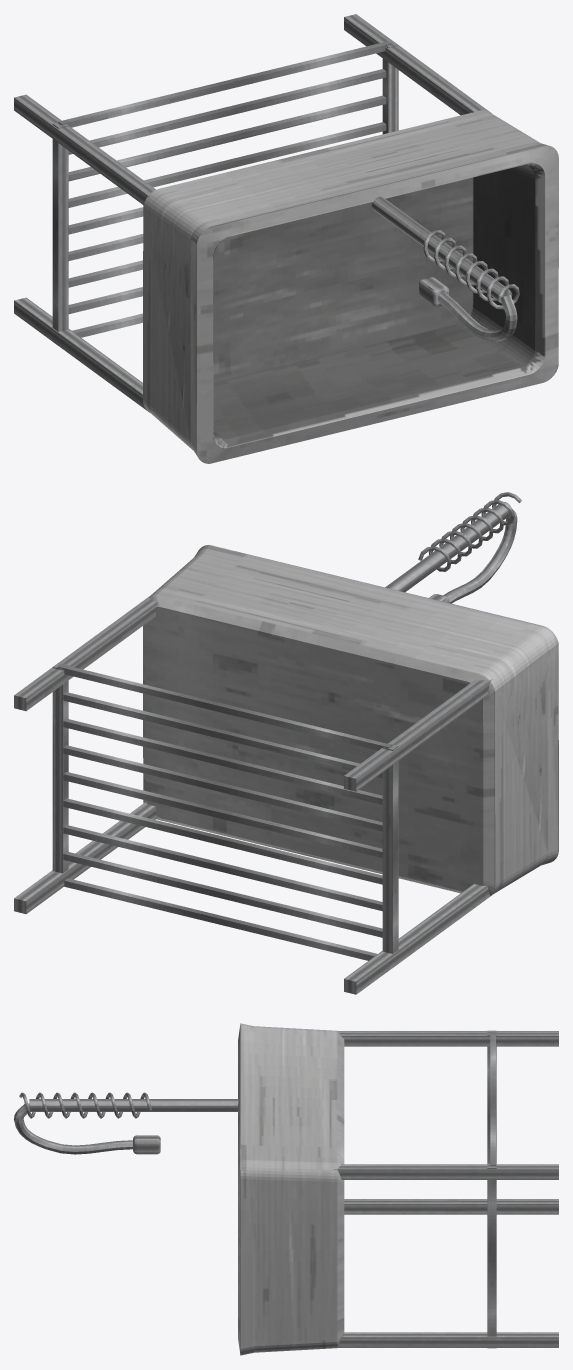
Rendered from pz_sink_large_industrial.obj.
3 renders of one model, top to bottom at view 1: azimuth 30°, elevation 25°; view 2: azimuth 150°, elevation 25°; view 3: azimuth 270°, elevation 25°, orthographic. The views are drawn at different scales.
Parts seen in each view (by area): view 1: pz_sink_large_industrial_|_deep_open_utility_basin_|_FULL_COUNTE, pz_sink_large_industrial_|_steel_leg.001, pz_sink_large_industrial_|_lower_rack_slat.008, pz_sink_large_industrial_|_lower_rack_side, pz_sink_large_industrial_|_steel_leg, pz_sink_large_industrial_|_steel_leg.003, pz_sink_large_industrial_|_lower_rack_slat.007, pz_sink_large_industrial_|_lower_rack_slat.006, pz_sink_large_industrial_|_lower_rack_slat.005, pz_sink_large_industrial_|_sprayer_post, pz_sink_large_industrial_|_EDITABLE_coiled_sprayer_hose, pz_sink_large_industrial_|_EDITABLE_bent_spray_neck (+7 smaller); view 2: pz_sink_large_industrial_|_deep_open_utility_basin_|_FULL_COUNTE, pz_sink_large_industrial_|_steel_leg.001, pz_sink_large_industrial_|_steel_leg, pz_sink_large_industrial_|_steel_leg.003, pz_sink_large_industrial_|_lower_rack_slat.008, pz_sink_large_industrial_|_lower_rack_side, pz_sink_large_industrial_|_lower_rack_slat.001, pz_sink_large_industrial_|_lower_rack_slat.002, pz_sink_large_industrial_|_lower_rack_slat.005, pz_sink_large_industrial_|_lower_rack_slat.003, pz_sink_large_industrial_|_lower_rack_slat.004, pz_sink_large_industrial_|_lower_rack_slat.006 (+7 smaller); view 3: pz_sink_large_industrial_|_deep_open_utility_basin_|_FULL_COUNTE, pz_sink_large_industrial_|_steel_leg.003, pz_sink_large_industrial_|_steel_leg.002, pz_sink_large_industrial_|_steel_leg.001, pz_sink_large_industrial_|_steel_leg, pz_sink_large_industrial_|_sprayer_post, pz_sink_large_industrial_|_lower_rack_side.001, pz_sink_large_industrial_|_EDITABLE_bent_spray_neck, pz_sink_large_industrial_|_EDITABLE_coiled_sprayer_hose, pz_sink_large_industrial_|_lower_rack_slat.008, pz_sink_large_industrial_|_lower_rack_side, pz_sink_large_industrial_|_spray_nozzle.
Part boxes in pixels (x1=…): pz_sink_large_industrial_|_deep_open_utility_basin_|_FULL_COUNTE: x1=143, y1=110, x2=558, y2=463; pz_sink_large_industrial_|_steel_leg.001: x1=14, y1=94, x2=155, y2=204; pz_sink_large_industrial_|_lower_rack_slat.008: x1=58, y1=41, x2=391, y2=127; pz_sink_large_industrial_|_lower_rack_side: x1=52, y1=122, x2=68, y2=331; pz_sink_large_industrial_|_steel_leg: x1=14, y1=297, x2=149, y2=412; pz_sink_large_industrial_|_steel_leg.003: x1=344, y1=14, x2=491, y2=115; pz_sink_large_industrial_|_lower_rack_slat.007: x1=68, y1=69, x2=386, y2=154; pz_sink_large_industrial_|_lower_rack_slat.006: x1=68, y1=95, x2=386, y2=181; pz_sink_large_industrial_|_lower_rack_slat.005: x1=68, y1=122, x2=386, y2=207; pz_sink_large_industrial_|_sprayer_post: x1=371, y1=196, x2=512, y2=303; pz_sink_large_industrial_|_EDITABLE_coiled_sprayer_hose: x1=423, y1=230, x2=519, y2=309; pz_sink_large_industrial_|_EDITABLE_bent_spray_neck: x1=437, y1=292, x2=517, y2=341; pz_sink_large_industrial_|_deep_open_utility_basin_|_FULL_COUNTE: x1=143, y1=545, x2=558, y2=895; pz_sink_large_industrial_|_steel_leg.001: x1=344, y1=679, x2=491, y2=791; pz_sink_large_industrial_|_steel_leg: x1=344, y1=884, x2=491, y2=994; pz_sink_large_industrial_|_steel_leg.003: x1=14, y1=596, x2=157, y2=711; pz_sink_large_industrial_|_lower_rack_slat.008: x1=58, y1=664, x2=391, y2=750; pz_sink_large_industrial_|_lower_rack_side: x1=382, y1=743, x2=398, y2=953; pz_sink_large_industrial_|_lower_rack_slat.001: x1=63, y1=851, x2=382, y2=937; pz_sink_large_industrial_|_lower_rack_slat.002: x1=63, y1=825, x2=382, y2=911; pz_sink_large_industrial_|_lower_rack_slat.005: x1=63, y1=745, x2=382, y2=831; pz_sink_large_industrial_|_lower_rack_slat.003: x1=63, y1=798, x2=382, y2=884; pz_sink_large_industrial_|_lower_rack_slat.004: x1=63, y1=772, x2=382, y2=857; pz_sink_large_industrial_|_lower_rack_slat.006: x1=63, y1=718, x2=382, y2=804; pz_sink_large_industrial_|_deep_open_utility_basin_|_FULL_COUNTE: x1=238, y1=1023, x2=344, y2=1355; pz_sink_large_industrial_|_steel_leg.003: x1=334, y1=1164, x2=558, y2=1179; pz_sink_large_industrial_|_steel_leg.002: x1=334, y1=1332, x2=558, y2=1347; pz_sink_large_industrial_|_steel_leg.001: x1=338, y1=1031, x2=558, y2=1046; pz_sink_large_industrial_|_steel_leg: x1=344, y1=1199, x2=558, y2=1214; pz_sink_large_industrial_|_sprayer_post: x1=29, y1=1099, x2=238, y2=1111; pz_sink_large_industrial_|_lower_rack_side.001: x1=487, y1=1163, x2=496, y2=1348; pz_sink_large_industrial_|_EDITABLE_bent_spray_neck: x1=14, y1=1103, x2=132, y2=1154; pz_sink_large_industrial_|_EDITABLE_coiled_sprayer_hose: x1=19, y1=1092, x2=151, y2=1118; pz_sink_large_industrial_|_lower_rack_slat.008: x1=490, y1=1031, x2=495, y2=1165; pz_sink_large_industrial_|_lower_rack_side: x1=487, y1=1030, x2=496, y2=1163; pz_sink_large_industrial_|_spray_nozzle: x1=133, y1=1135, x2=160, y2=1154.
Size of the model in its own units: 1 by 0.625 by 1.57.
Materials: 1 (1 with a texture image).
